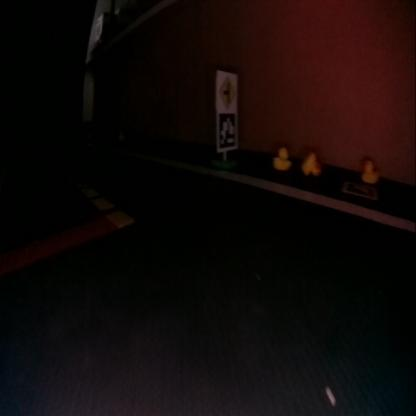Duckie: (361, 159, 379, 182), (302, 151, 318, 174), (274, 147, 288, 170)
Intersection sign: (217, 73, 235, 108)
QR code: (216, 112, 236, 146), (342, 180, 376, 200)
